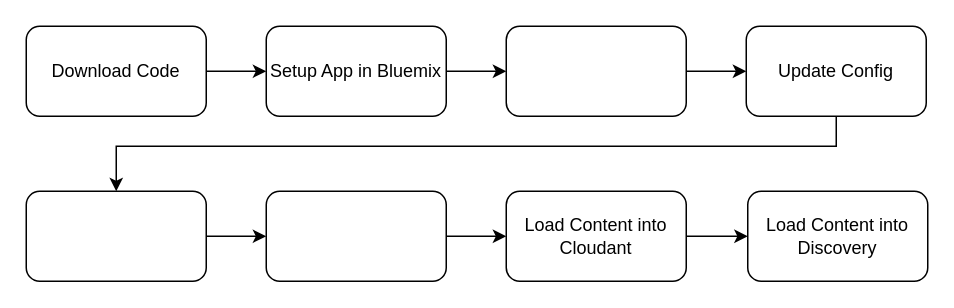
Image size: 954x308. Some labels were removed from this diagram. Here are the shapes that lost their labels. From the top down, the centre of each, then its label:
point (595, 70): Create & Bind Services
point (115, 235): Build Application
point (355, 235): Deploy to Bluemix
